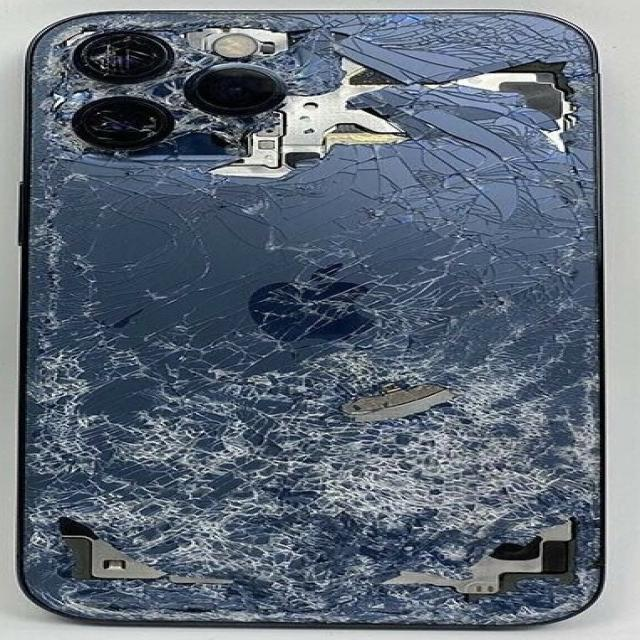Crack: (15, 6, 619, 639)
